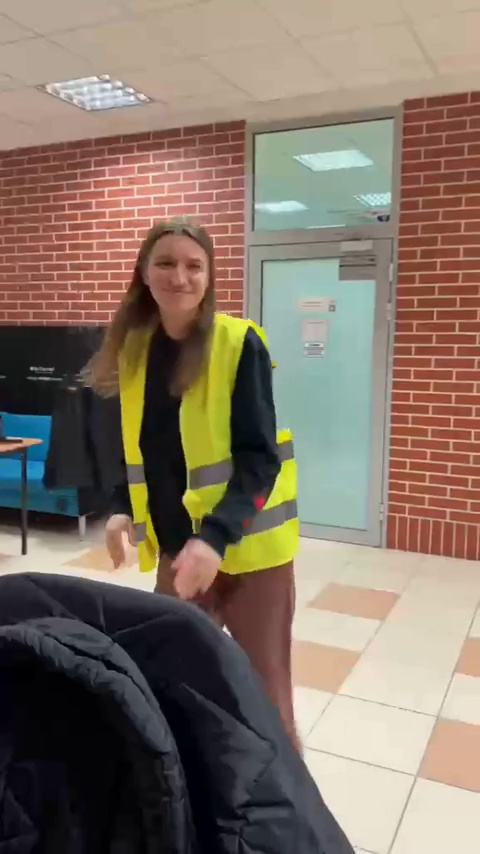vest: (74, 210, 314, 671)
